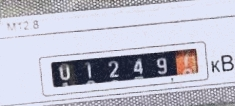0: (57, 61, 71, 81)
1: (82, 59, 93, 79)
2: (106, 58, 120, 79)
4: (131, 56, 143, 75)
7: (179, 48, 192, 68)
9: (154, 54, 168, 76)
screen: (31, 40, 208, 95)
